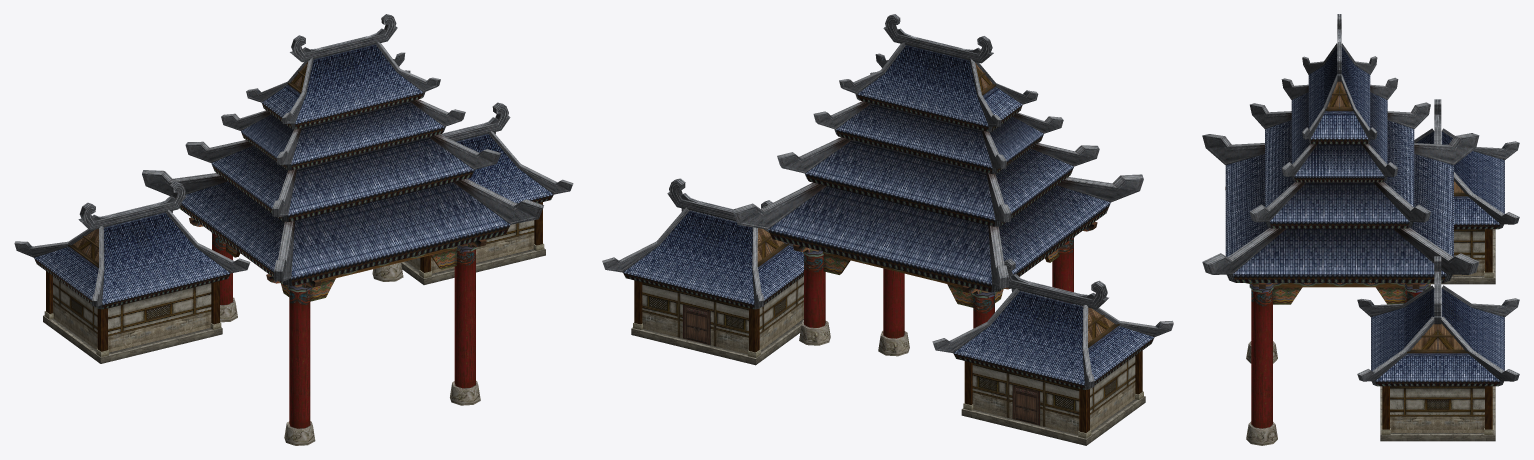
File: milgyo_building03.glb
3 renders of one model, left to right at view 1: azimuth 30°, elevation 25°; view 2: azimuth 150°, elevation 25°; view 3: azimuth 270°, elevation 25°, orthographic. The views are drawn at different scales.
Visible parts, largest first — view 1: milgyo_building03; view 2: milgyo_building03; view 3: milgyo_building03.
Boxes of the visible parts, x1=… form: milgyo_building03: x1=14, y1=14, x2=573, y2=445; milgyo_building03: x1=602, y1=14, x2=1173, y2=445; milgyo_building03: x1=1202, y1=14, x2=1519, y2=445.
Bounding box in the file's own units: 46.81 × 33.92 × 26.84.
3 materials, 3 textured.
